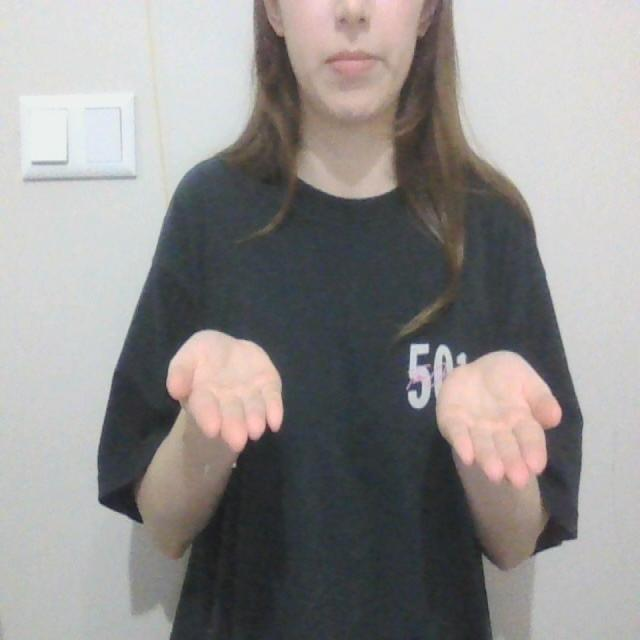Evet: (163, 326, 567, 492)
